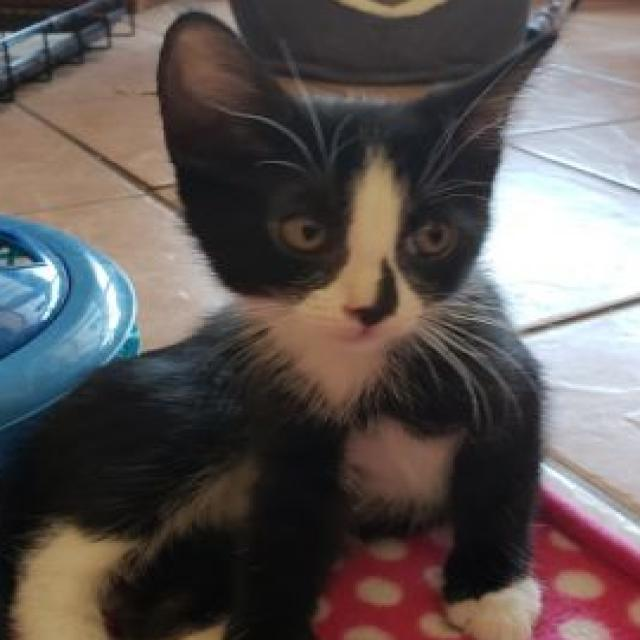Tuxedo: (0, 8, 562, 640)
